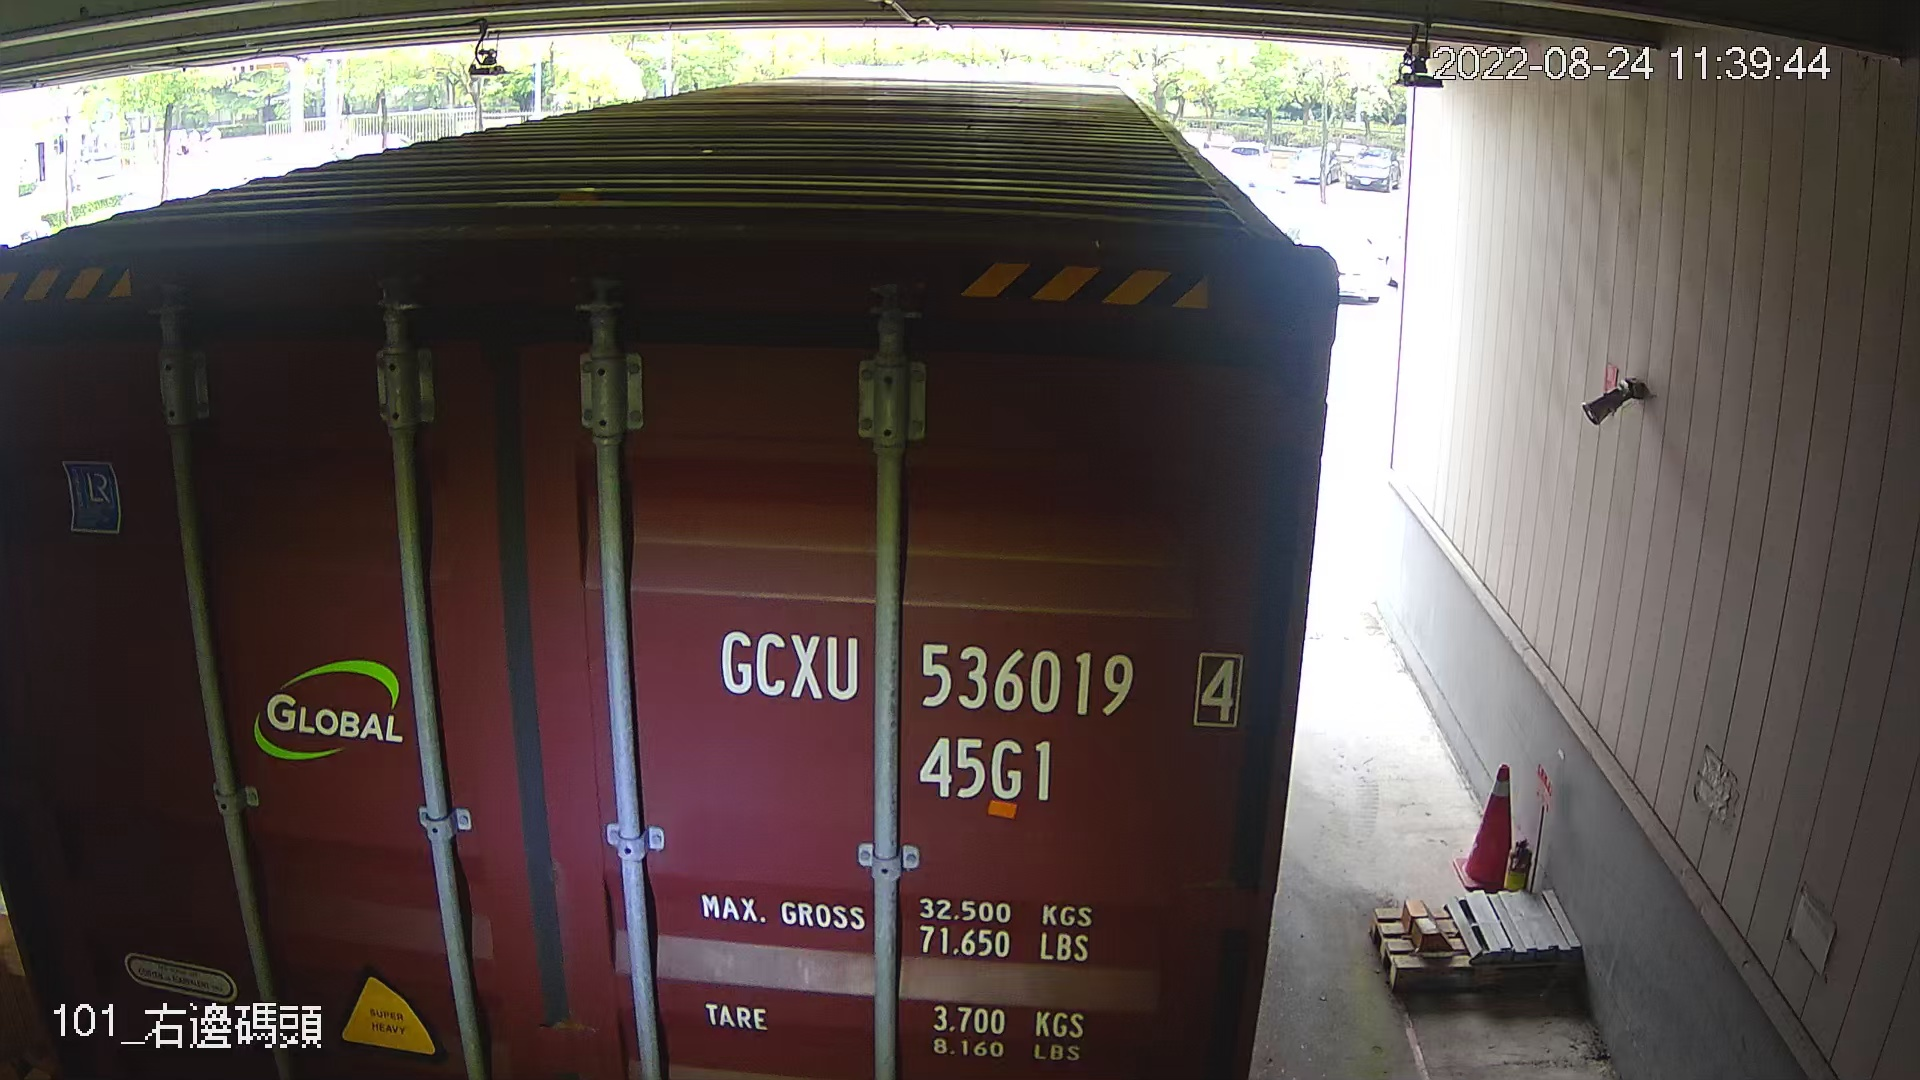container: (703, 604, 1254, 827)
